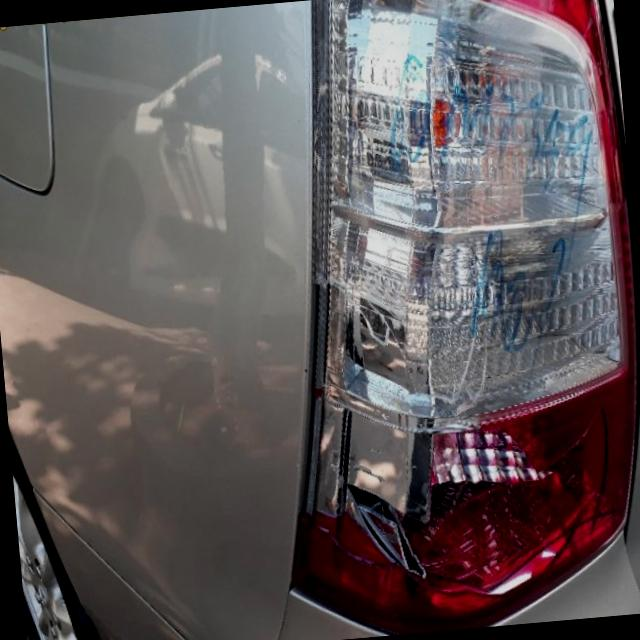Phare abime: (301, 244, 445, 543)
